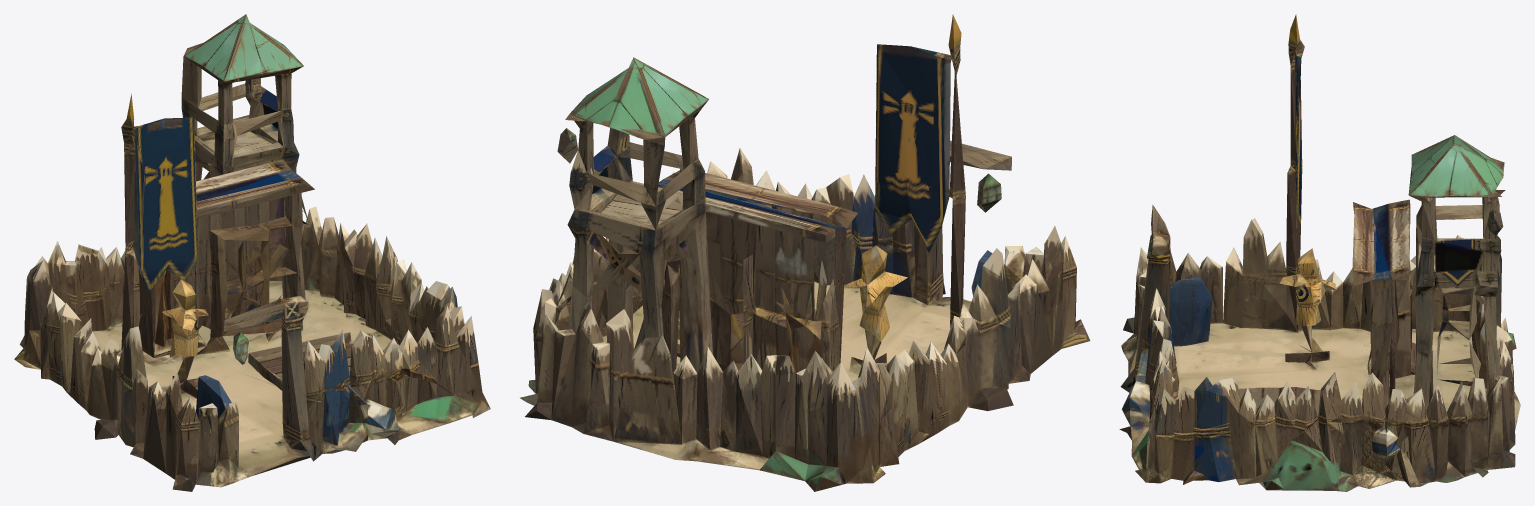
The model's file is barracks.glb.
3 views of the same model, side by side, from view 1: azimuth 30°, elevation 25°; view 2: azimuth 150°, elevation 25°; view 3: azimuth 270°, elevation 25° (orthographic). The views are drawn at different scales.
Size of the model in its own units: 1.88 by 1.71 by 1.88.
1 material, 1 textured.
